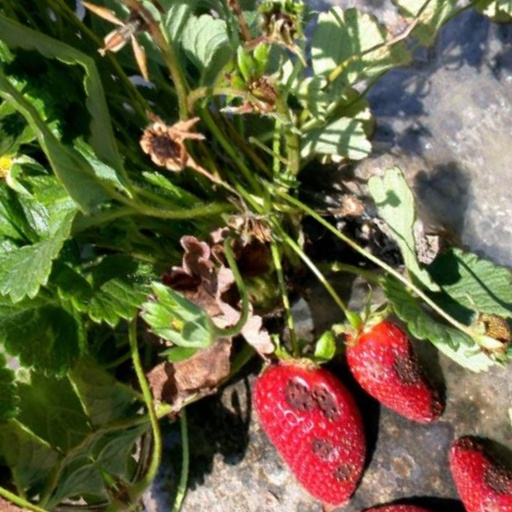Anthracnose Fruit Rot: (172, 371, 232, 491), (259, 408, 322, 498)
